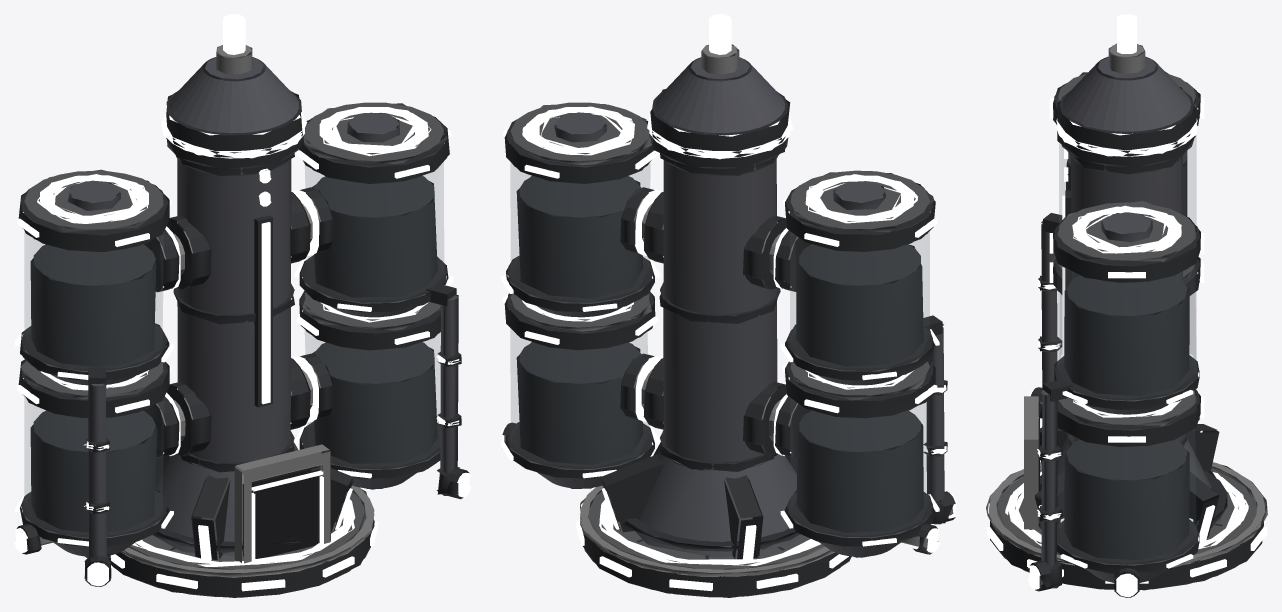
The model's file is Vat_T3.glb.
3 views of the same model, side by side, from view 1: azimuth 30°, elevation 25°; view 2: azimuth 150°, elevation 25°; view 3: azimuth 270°, elevation 25° (orthographic).
Visible parts, largest first — view 1: Vat_T3; view 2: Vat_T3; view 3: Vat_T3.
Boxes of the visible parts, x1,y1,x2,y2 form: Vat_T3: [14, 14, 471, 597]; Vat_T3: [500, 14, 957, 597]; Vat_T3: [986, 14, 1267, 597].
Bounding box in the file's own units: 6.75 × 7.91 × 3.89.
